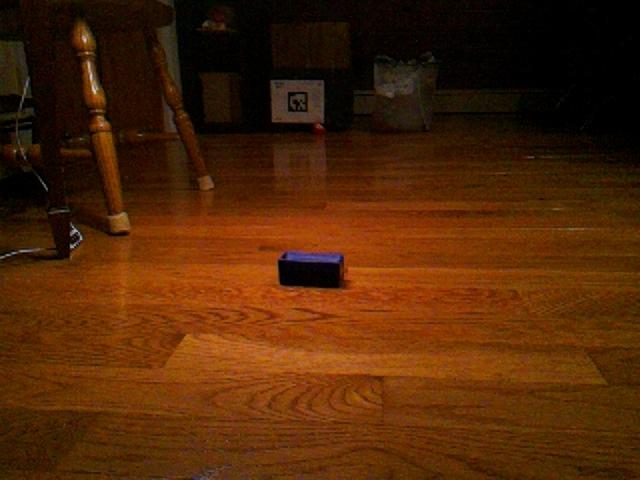blue: (276, 249, 346, 289)
